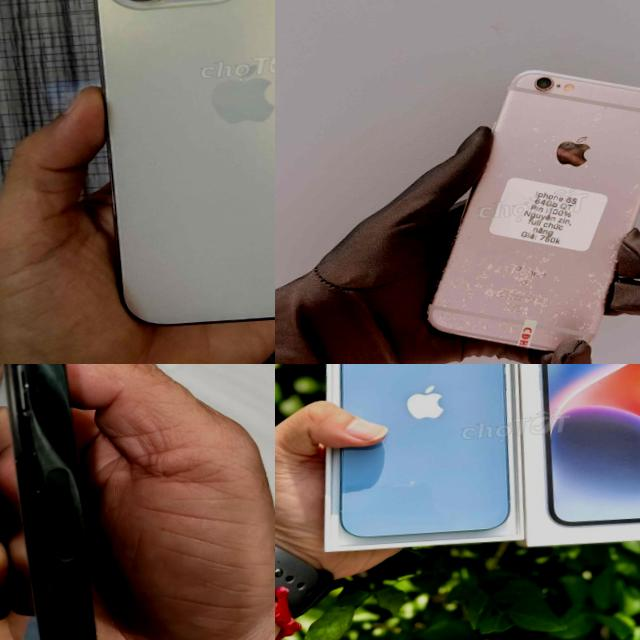gen_12_13: (0, 364, 129, 640)
gen_14: (68, 0, 275, 341), (317, 364, 528, 545)
gen_6: (427, 71, 640, 351)
